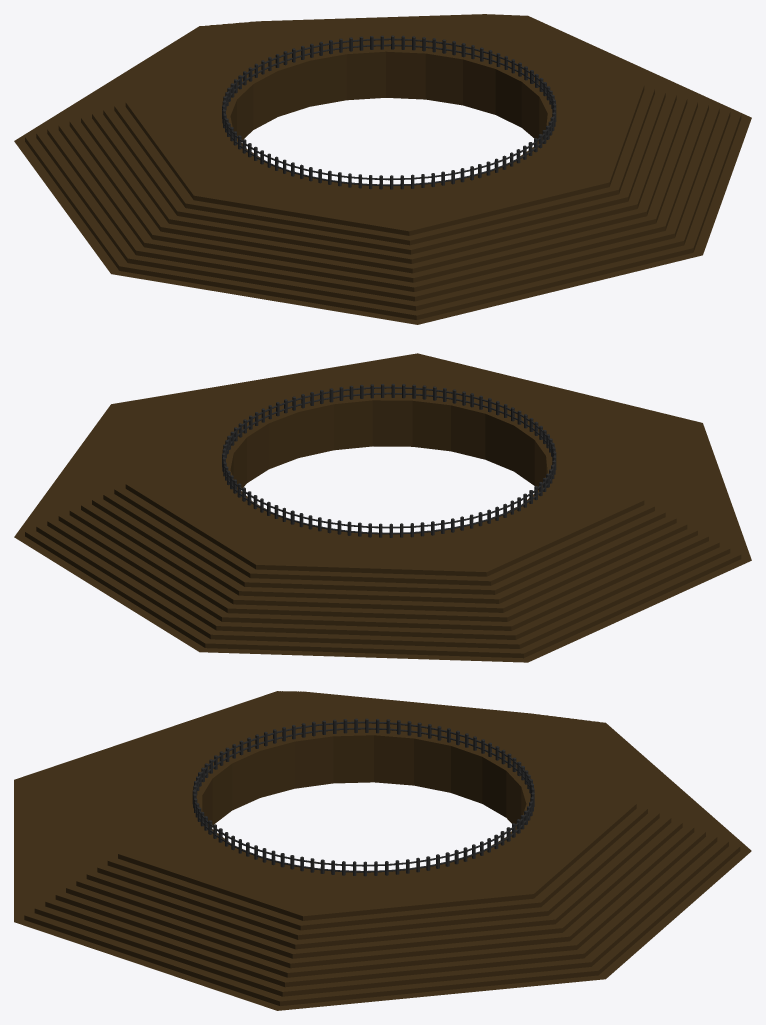
The model's file is big_portal.fbx.
3 renders of one model, top to bottom at view 1: azimuth 30°, elevation 25°; view 2: azimuth 150°, elevation 25°; view 3: azimuth 270°, elevation 25°, orthographic. The views are drawn at different scales.
Parts seen in each view (by area): view 1: Cylinder, Cube; view 2: Cylinder, Cube; view 3: Cylinder, Cube.
Boxes of the visible parts, box(x1,y1,x2,y2) form: Cylinder: box(14, 14, 751, 324); Cube: box(222, 35, 556, 189); Cylinder: box(14, 353, 751, 662); Cube: box(222, 384, 556, 537); Cylinder: box(14, 691, 751, 1010); Cube: box(192, 718, 534, 876).
Bounding box in the file's own units: 11171 × 985 × 10891.
